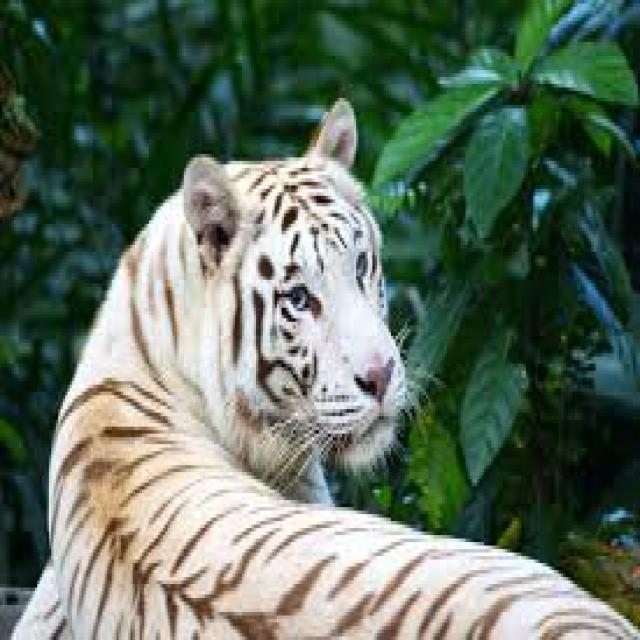Tiger: (2, 94, 638, 636)
